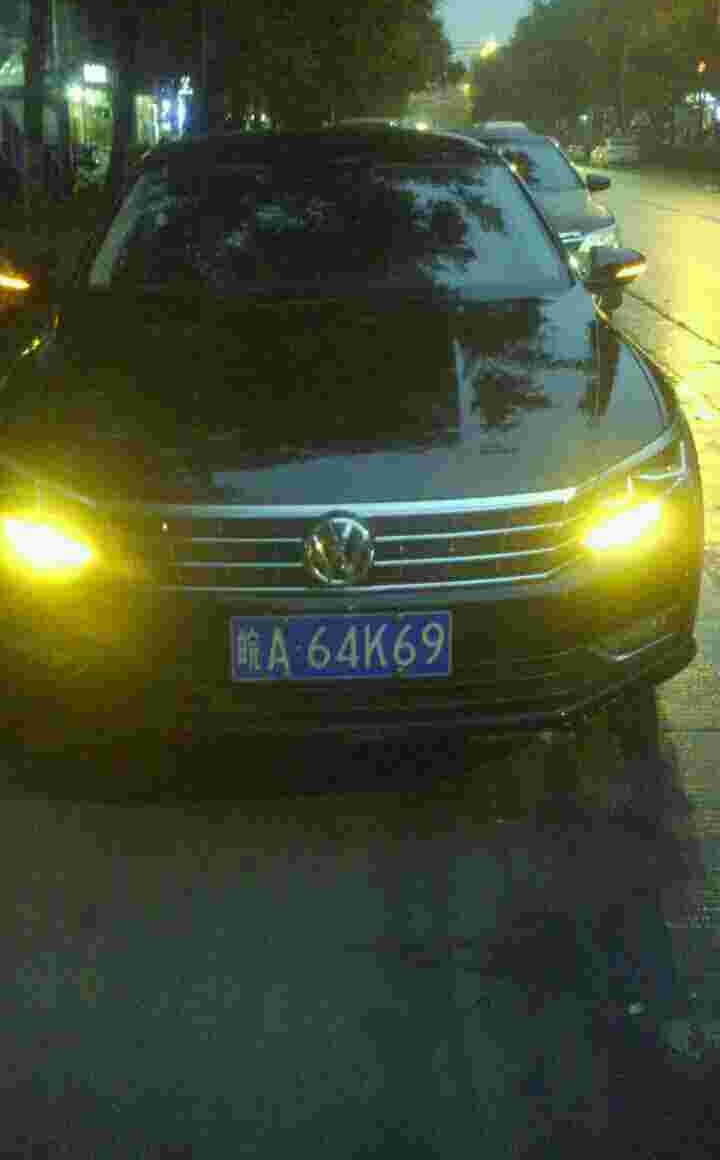plate: (233, 607, 457, 686)
